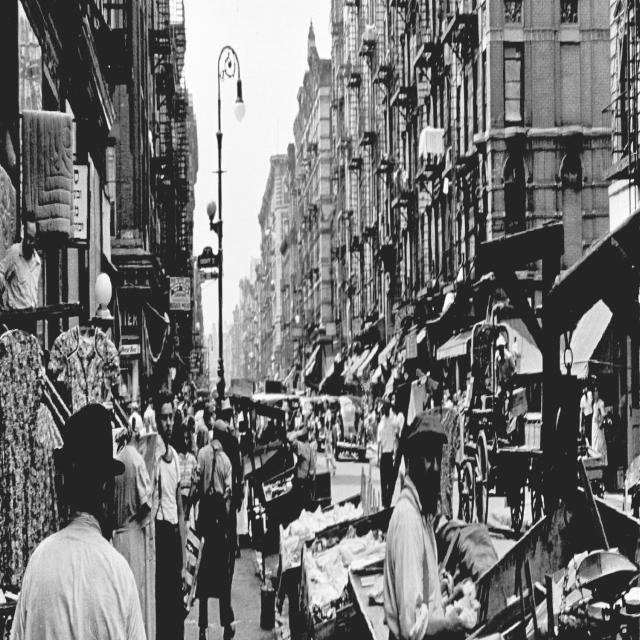body: (8, 400, 148, 640), (380, 405, 482, 639), (183, 418, 235, 640), (110, 408, 158, 640), (153, 391, 187, 640), (144, 374, 218, 474), (212, 397, 243, 593), (0, 209, 44, 310), (175, 423, 197, 546), (287, 423, 314, 509), (492, 332, 518, 421), (377, 401, 397, 510), (292, 396, 322, 466), (591, 381, 608, 469), (388, 382, 403, 466), (322, 398, 337, 478), (579, 382, 593, 458)
